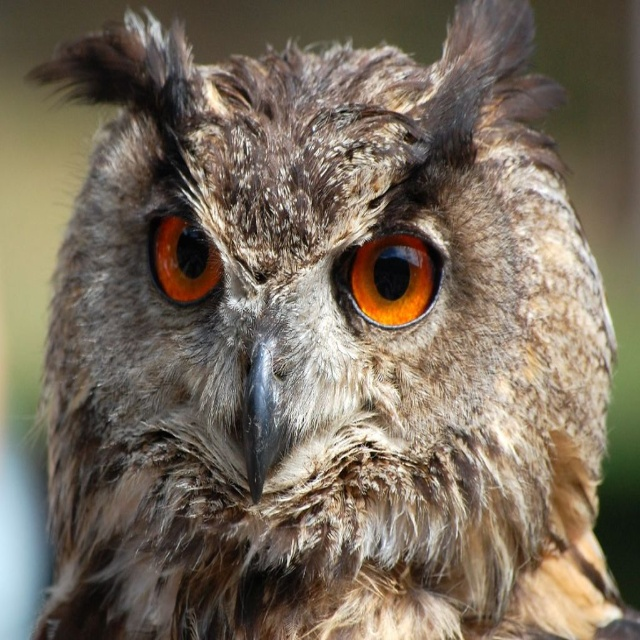Owl: (19, 0, 640, 639)
